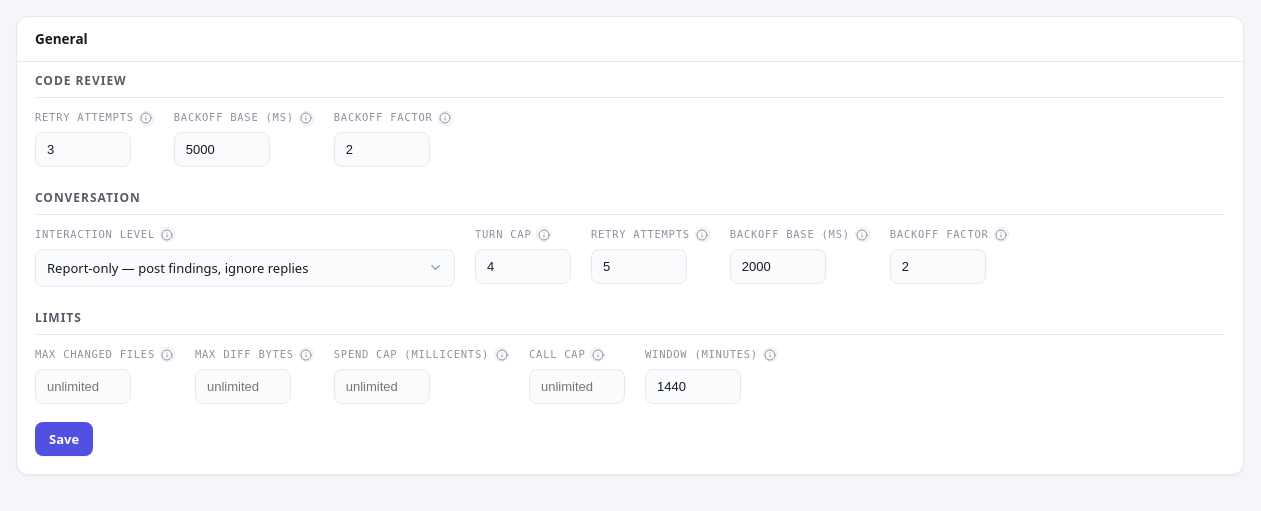
Test: SettingsGeneral — Limits › rejects an entered 0 without sending it
Expected: the heading "Limits" is shown, 35,309 -> 1225,335
Type "0" into the number field with placeholder "unlimited" below "Call cap" at (577, 386), box 529,368 -> 625,404
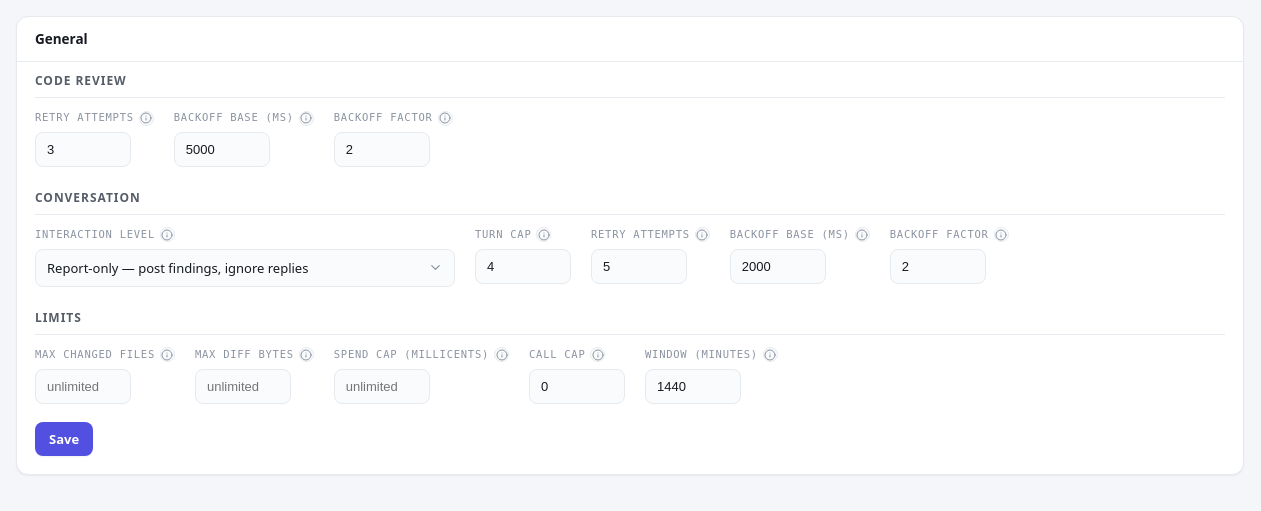
Click the button "Save" at (64, 438), box 35,422 -> 93,456
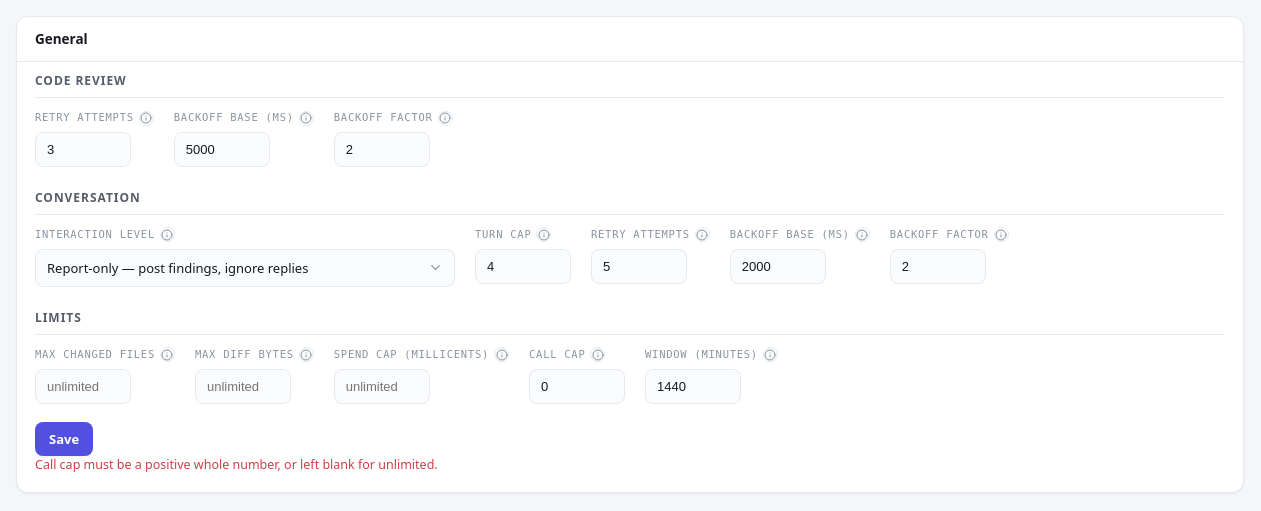
Expected: the text "Call cap must be a positive whole number" is shown, 35,456 -> 438,472
